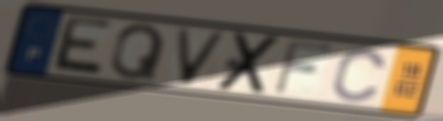C: (329, 47, 390, 105)
E: (47, 14, 116, 79)
F: (270, 38, 338, 97)
Q: (108, 22, 169, 83)
V: (173, 26, 232, 88)
X: (212, 31, 286, 96)
